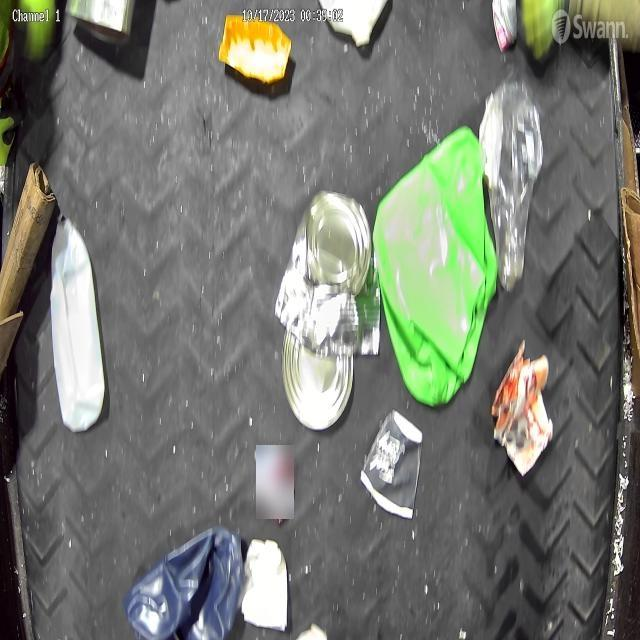milk_jug: (50, 214, 104, 432)
non_white_jug: (373, 127, 498, 406), (124, 524, 244, 640)
plastic_bottle: (479, 80, 542, 290)
